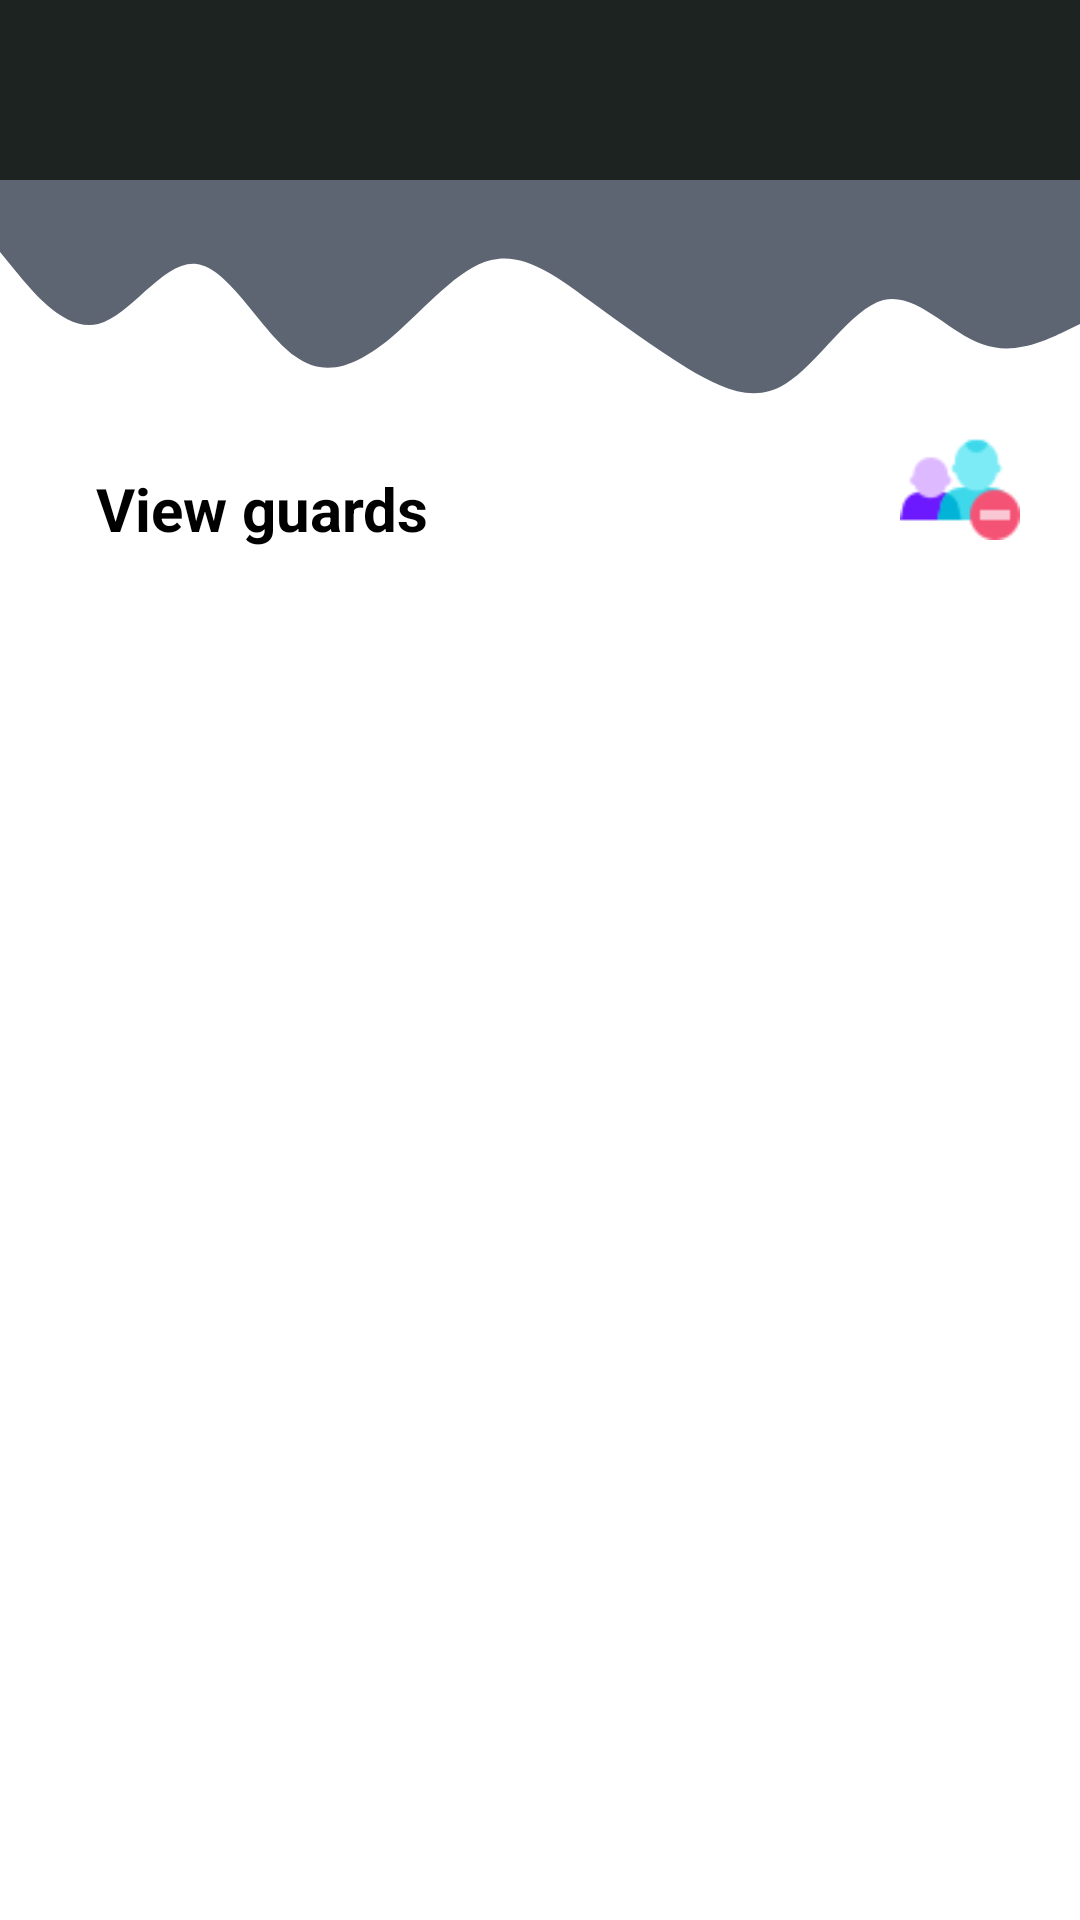

Named icons in this screenshot (1080 x 1920) and their bounding boxes, (x1, y1, x2, y2):
delete user: (900, 439, 1020, 540)
